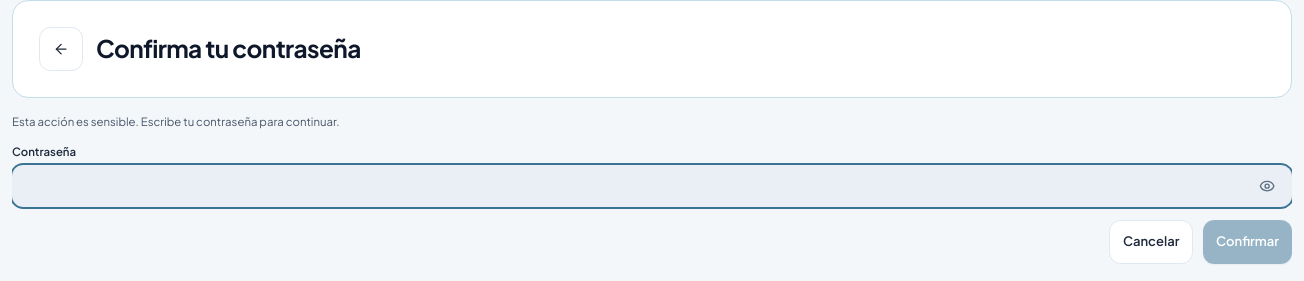
Test: ReauthProvider › resolves false when the user cancels
The image size is (1304, 281).
Click the button "Cancelar" at (1151,242), box [1109,220,1193,264]
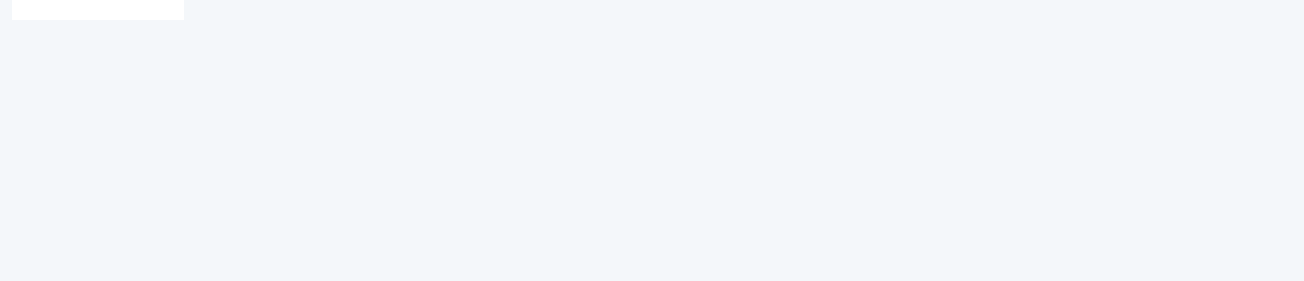
Check: the text "Confirma tu contraseña" is gone
